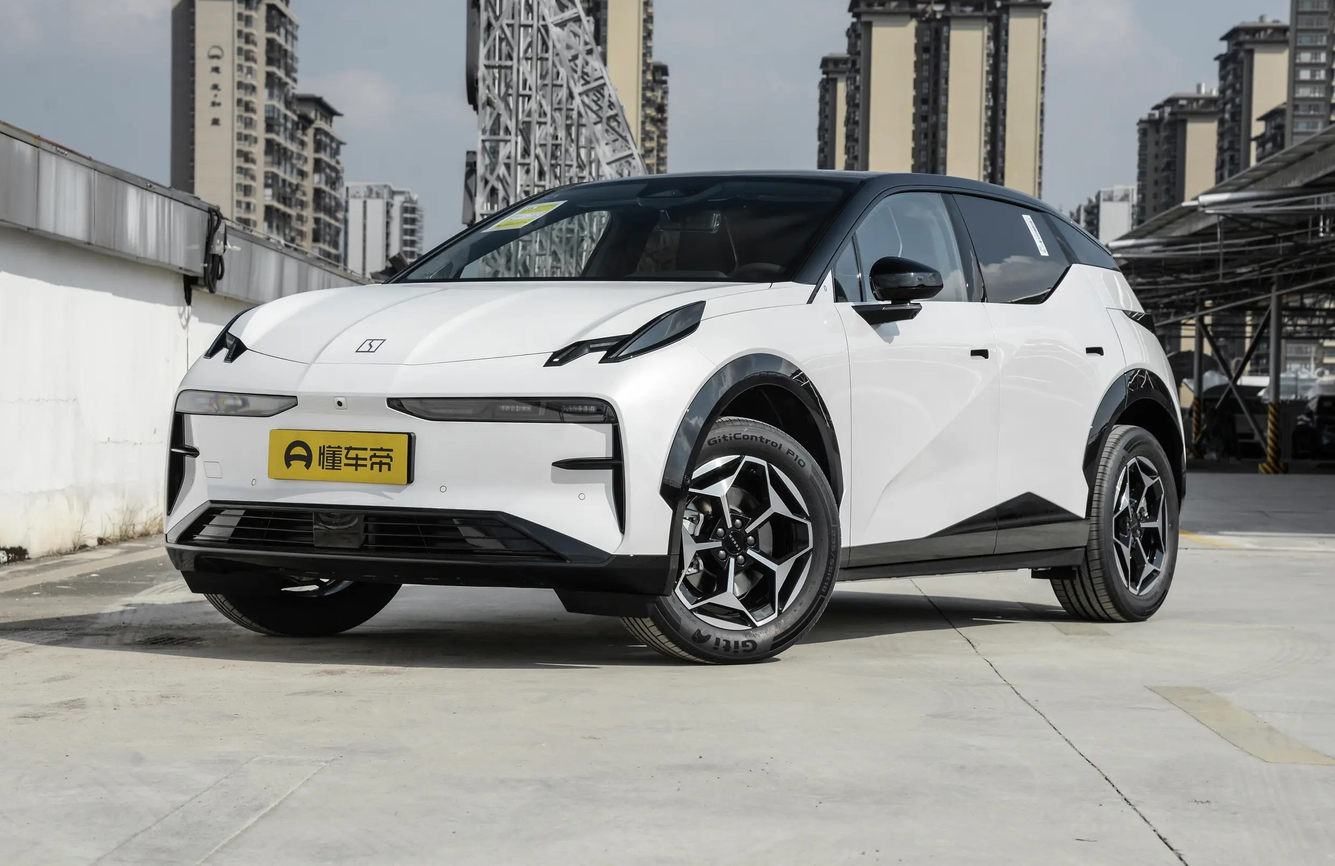ZEEKR: (355, 339, 385, 352)
